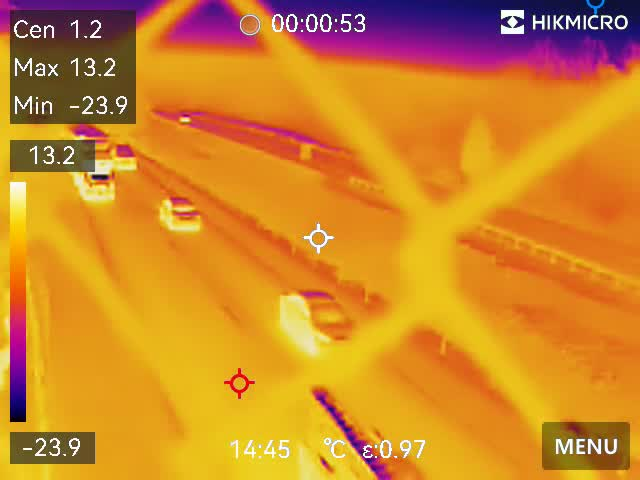heavyTruck: (64, 129, 120, 207)
smallCar: (272, 285, 363, 350), (156, 189, 198, 234), (108, 143, 140, 173), (175, 111, 191, 126)
